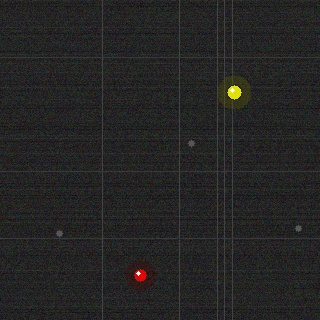red_fault: (132, 267, 148, 283)
yellow_warning: (225, 83, 243, 101)
